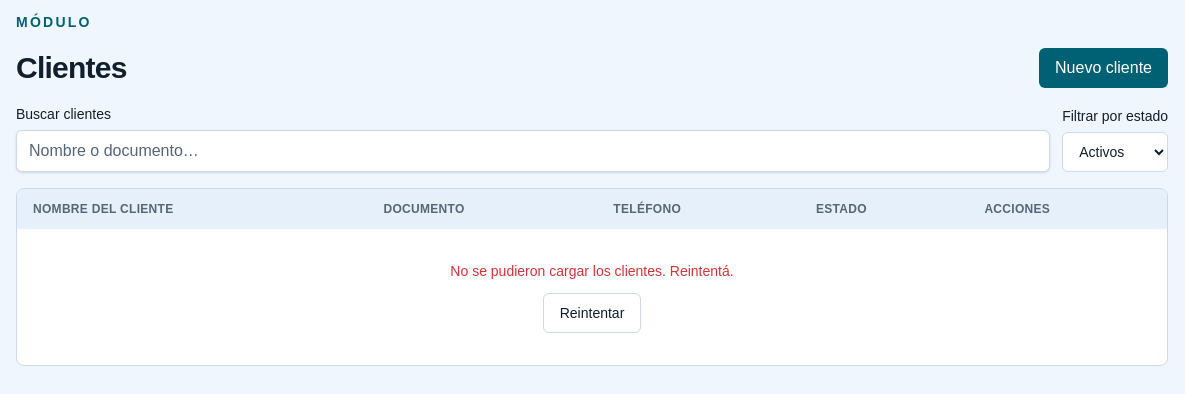
Test: ClientesPage › shows error and retries the load
Expected: the message "No se pudieron cargar los clientes. Reintentá. Reintentar" is shown, top-left (450, 263), bottom-right (734, 333)
Click the button "Reintentar" at (592, 313), box top-left (543, 293), bottom-right (641, 333)
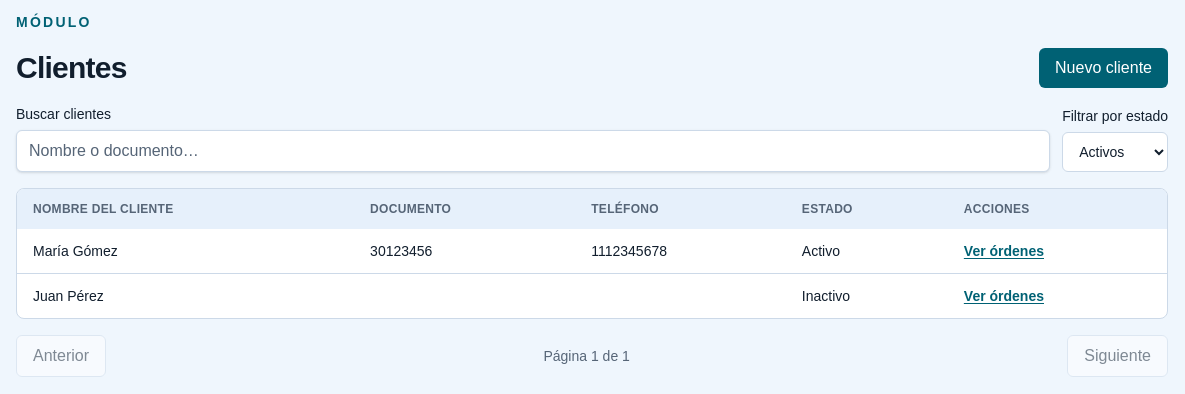
Expected: the text "María Gómez" is shown, top-left (17, 229), bottom-right (354, 274)
